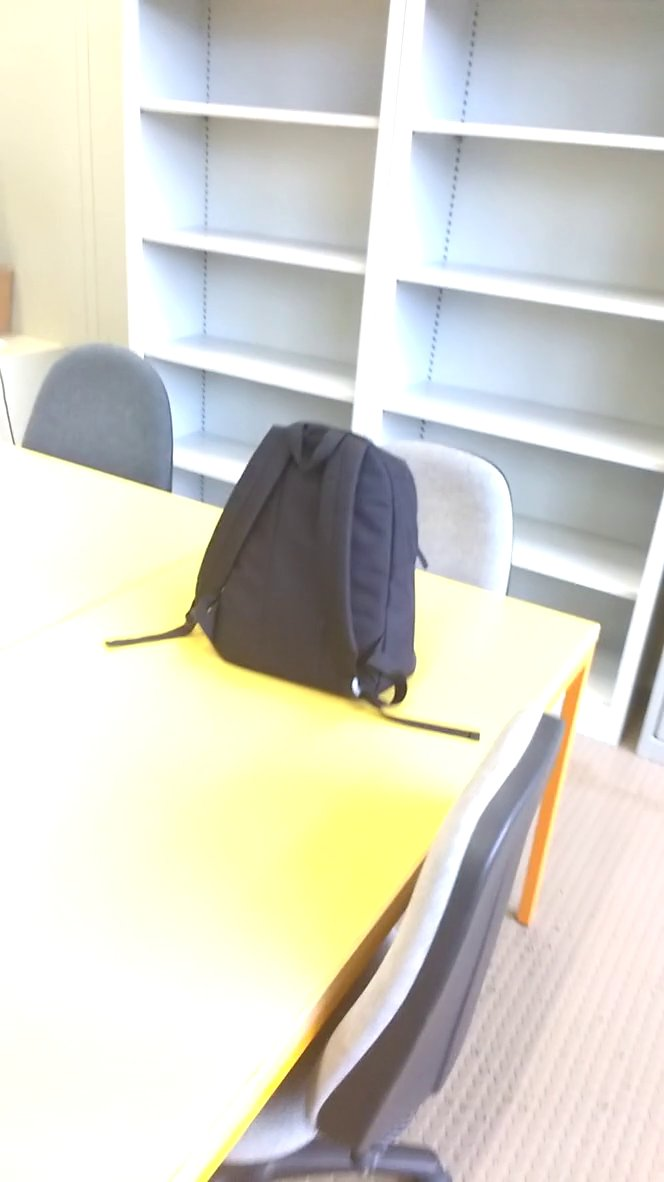bag: (110, 414, 444, 748)
chair: (187, 708, 580, 1182), (8, 322, 181, 528)
